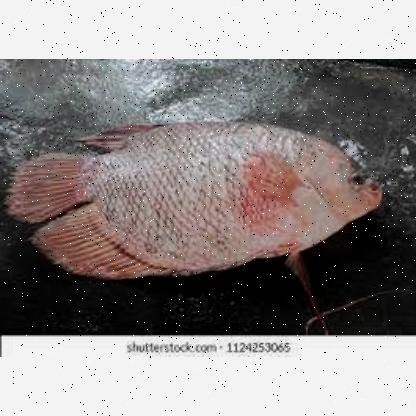gurame: (19, 121, 384, 278)
